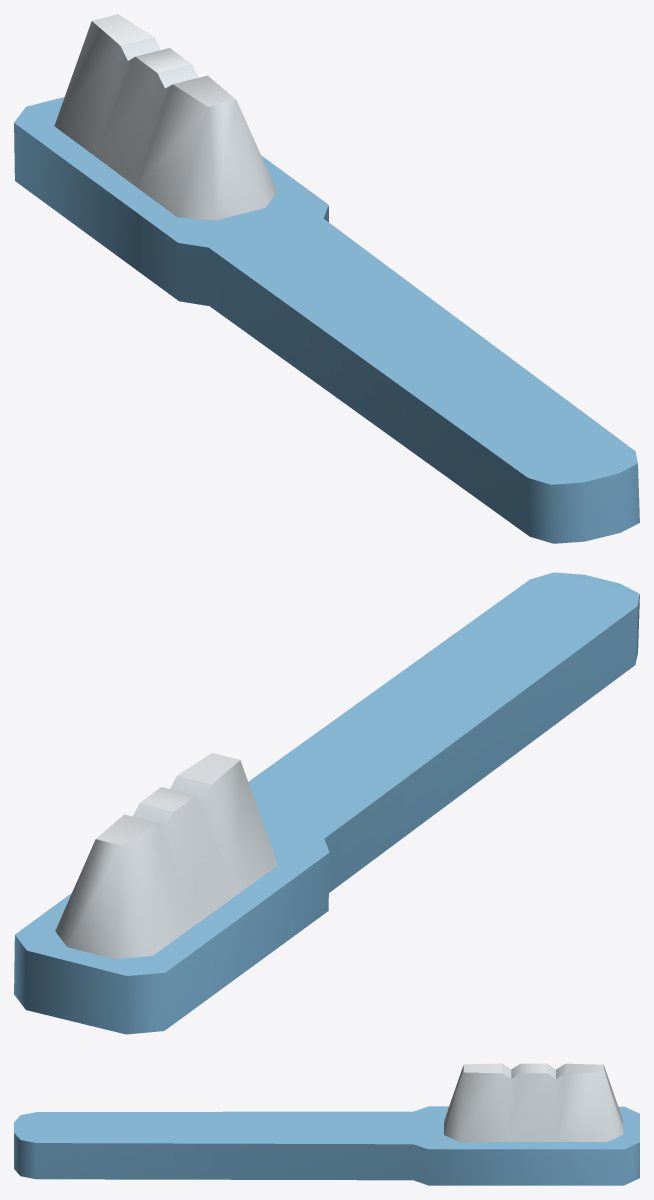
The model's file is toothbrush_blue.fbx.
3 renders of one model, top to bottom at view 1: azimuth 30°, elevation 25°; view 2: azimuth 150°, elevation 25°; view 3: azimuth 270°, elevation 25°, orthographic. The views are drawn at different scales.
Visible parts, largest first — view 1: toothbrush_blue; view 2: toothbrush_blue; view 3: toothbrush_blue.
Part boxes in pixels (bbox=[...]): toothbrush_blue: bbox=[14, 14, 639, 543]; toothbrush_blue: bbox=[14, 572, 639, 1034]; toothbrush_blue: bbox=[14, 1063, 639, 1185].
Bounding box in the file's own units: 0.1 × 0.1 × 0.6.
